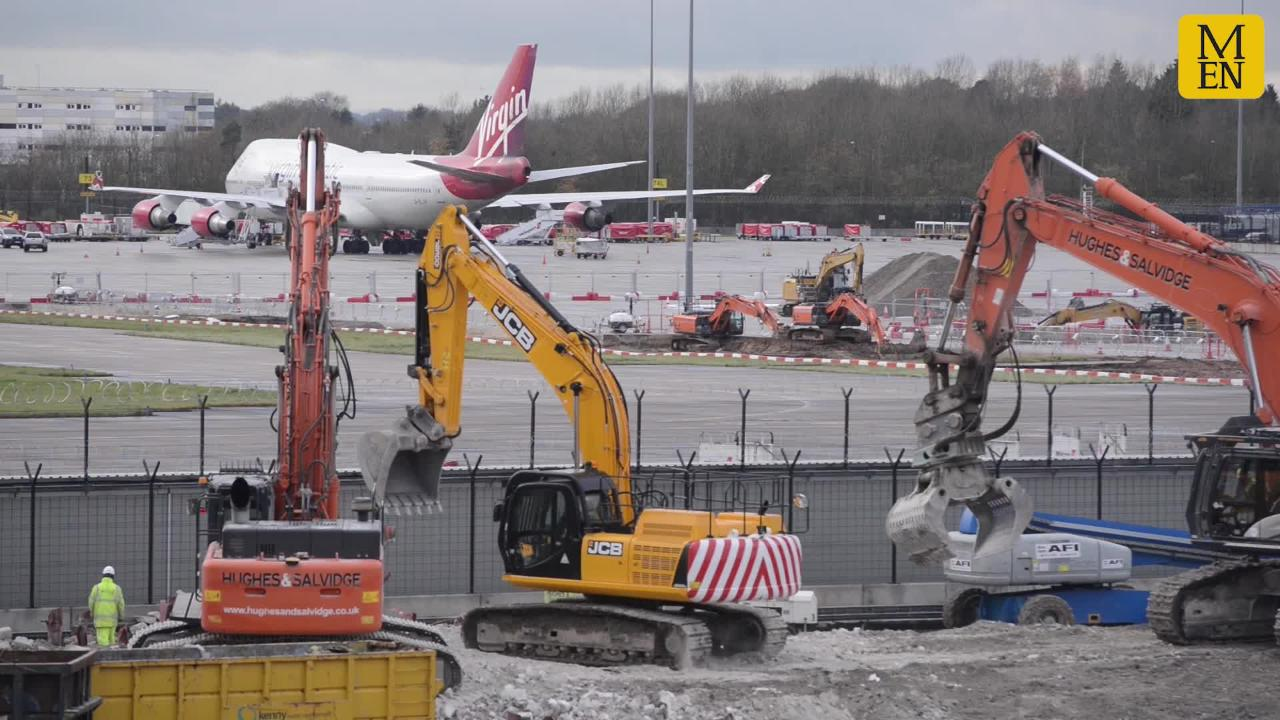backhoe: (879, 129, 1280, 634), (393, 209, 816, 673), (200, 183, 387, 645)
